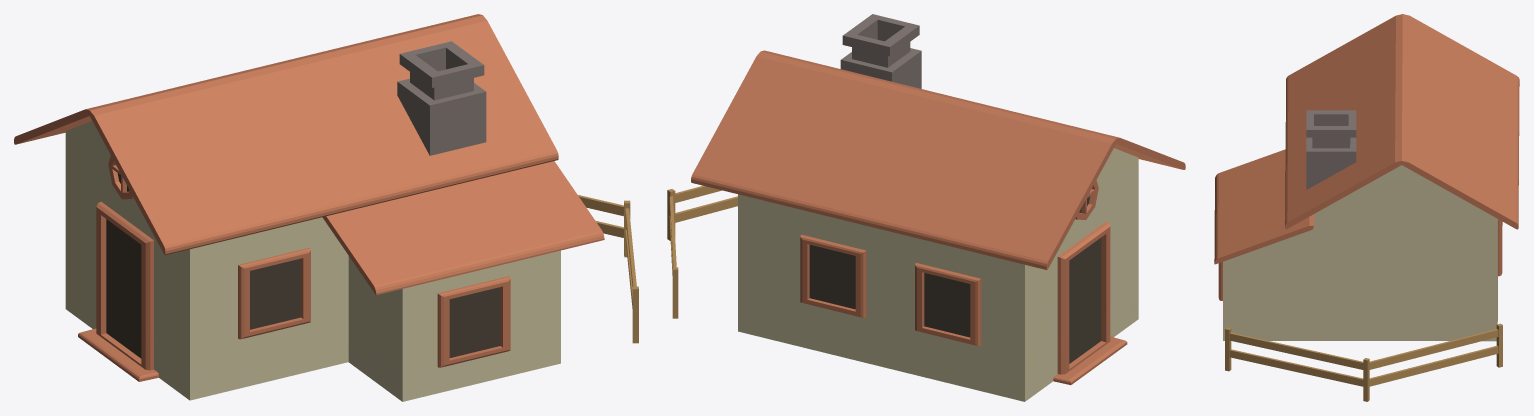
The model's file is bighouse.glb.
3 renders of one model, left to right at view 1: azimuth 30°, elevation 25°; view 2: azimuth 150°, elevation 25°; view 3: azimuth 270°, elevation 25°, orthographic. The views are drawn at different scales.
Visible parts, largest first — view 1: Cube.094_Material.001_0, Cube.097_Material.001_0; view 2: Cube.094_Material.001_0, Cube.097_Material.001_0; view 3: Cube.094_Material.001_0, Cube.097_Material.001_0.
Part boxes in pixels (bbox=[...]): Cube.094_Material.001_0: bbox=[14, 14, 604, 401]; Cube.097_Material.001_0: bbox=[578, 195, 638, 343]; Cube.094_Material.001_0: bbox=[691, 14, 1185, 401]; Cube.097_Material.001_0: bbox=[667, 185, 737, 318]; Cube.094_Material.001_0: bbox=[1214, 14, 1519, 341]; Cube.097_Material.001_0: bbox=[1225, 323, 1502, 401].
Bounding box in the file's own units: 1.32 × 0.6448 × 0.8802.
1 material, 1 textured.
